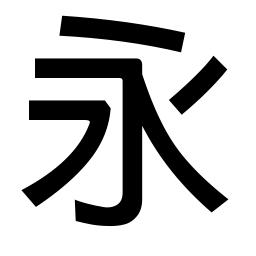D: (56, 12, 187, 53)
HSZ: (106, 56, 145, 89)
Hs: (31, 56, 68, 81)
Ne: (192, 182, 231, 215)
PNc: (144, 94, 187, 138)
PZe: (20, 173, 62, 208)
Ps: (197, 54, 230, 83)
SG: (73, 193, 145, 231)
Sm: (119, 138, 143, 178)
TPZ: (81, 98, 112, 138)
Ts: (26, 96, 58, 124)
